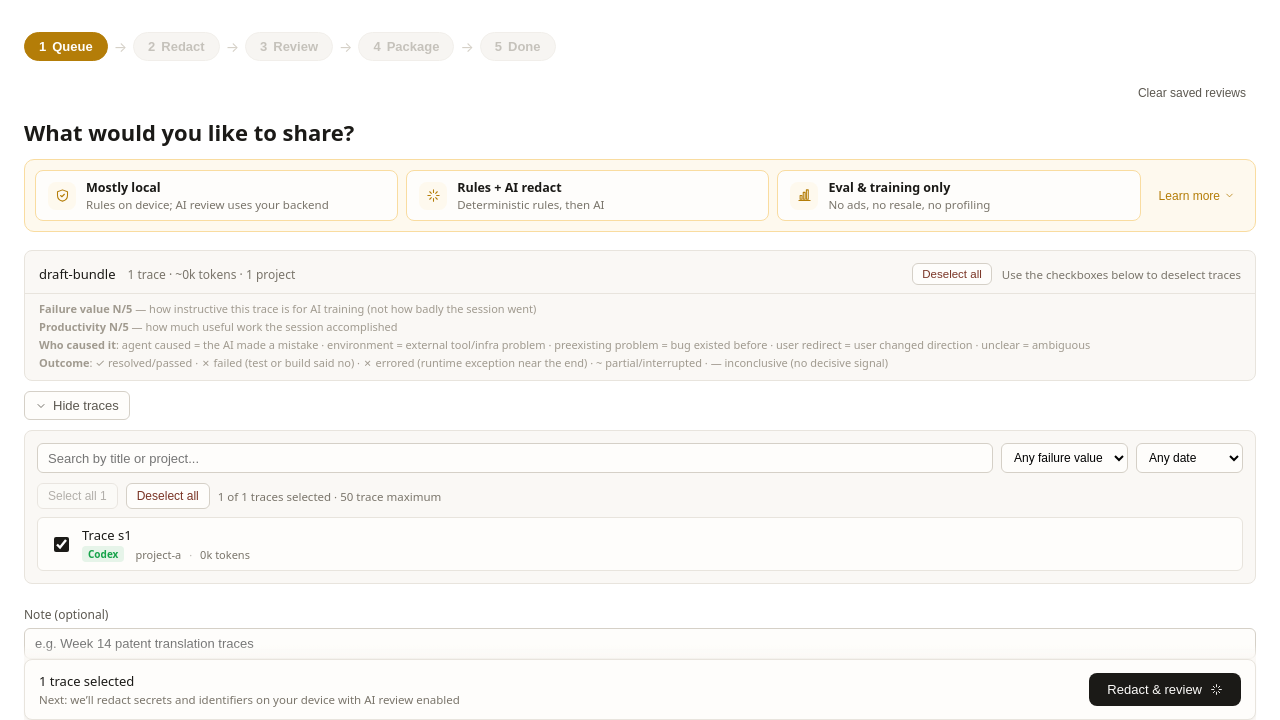
Test: Reviewed share versions › requires the saved preview and uses its revision (available=false)
The width and height of the screenshot is (1280, 720).
Expected: the text "1 trace selected" is shown, [39,672,134,690]
Click the button "Redact & review" at (1165, 690), box [1089,673,1241,706]
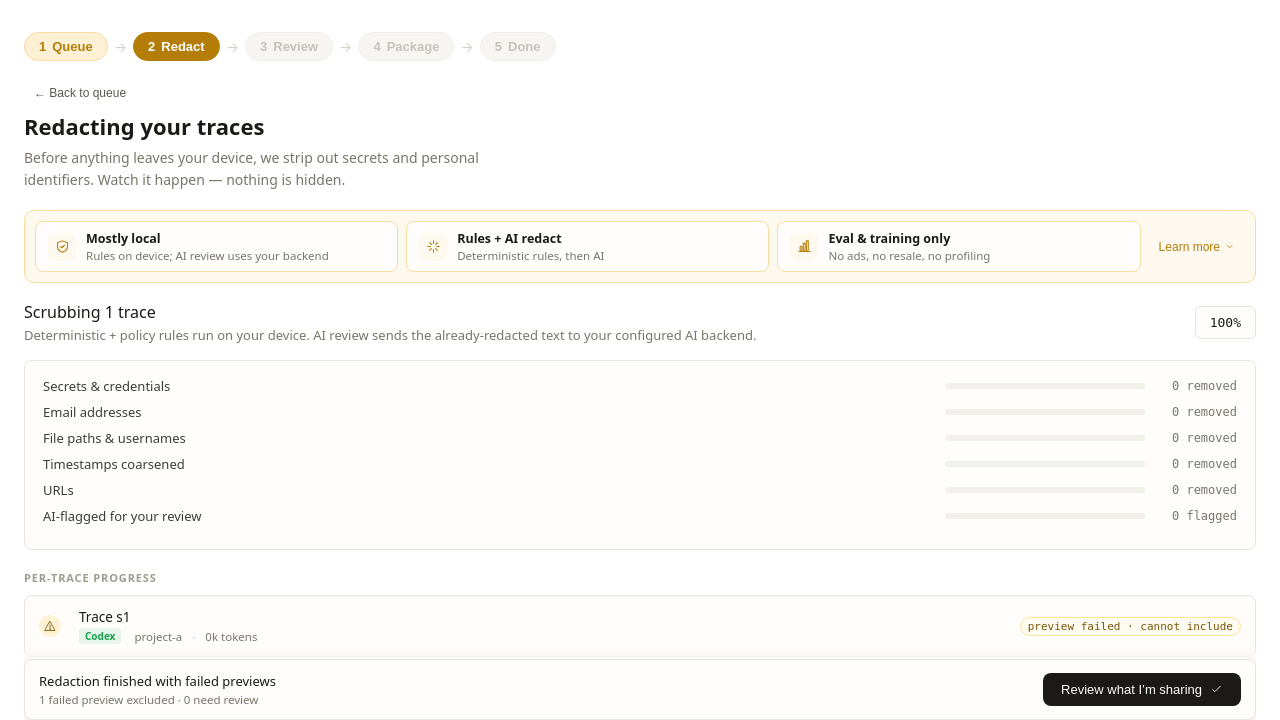
Expected: the text "Redaction finished with failed previews" is shown, [39,672,276,690]
Click the button "Review what I’m sharing" at (1142, 690), box [1043,673,1241,706]
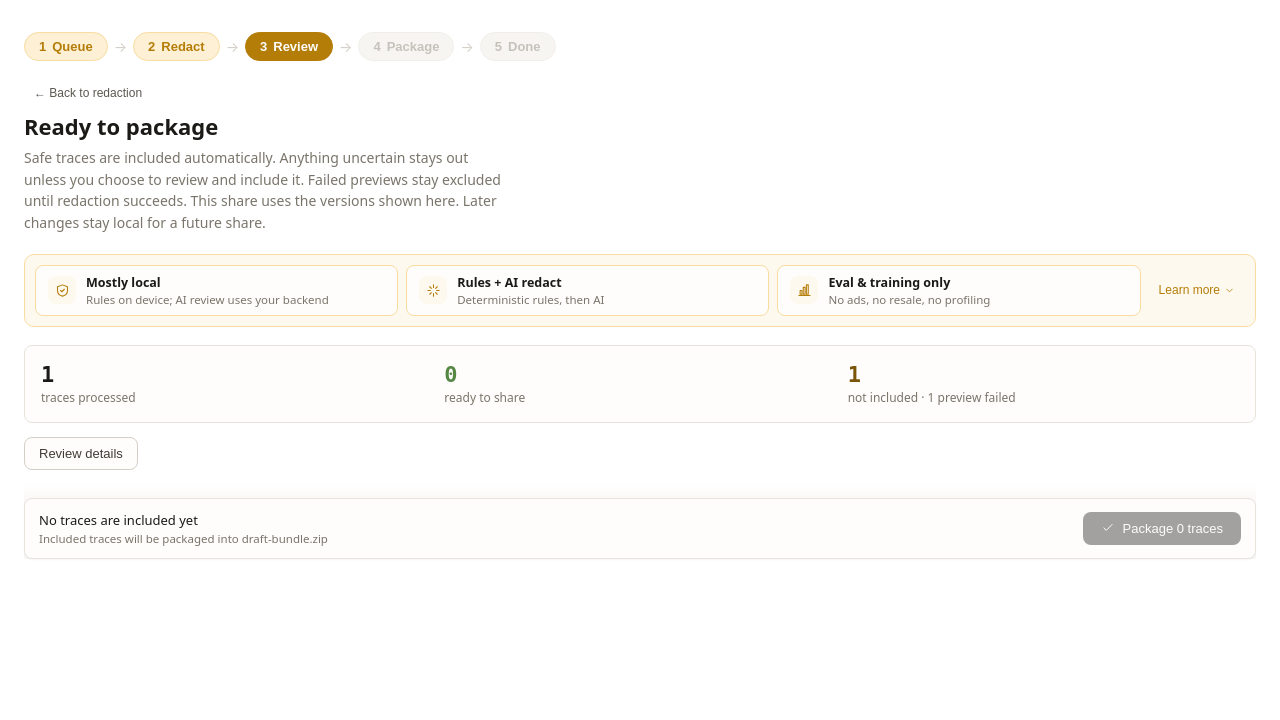
Expected: the text "Later changes stay local for a future share" is shown, [24,148,501,232]
Expected: the text "not included · 1 preview failed" is shown, [848,389,1016,406]
